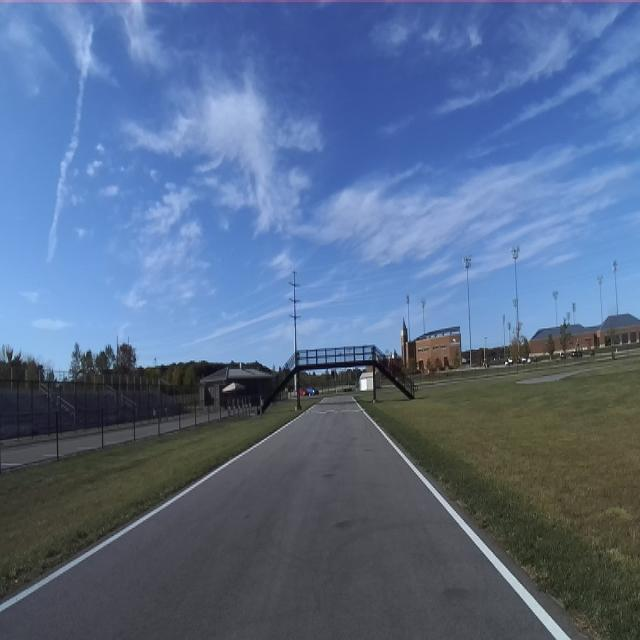white-line: (0, 405, 314, 612), (360, 408, 570, 639)
